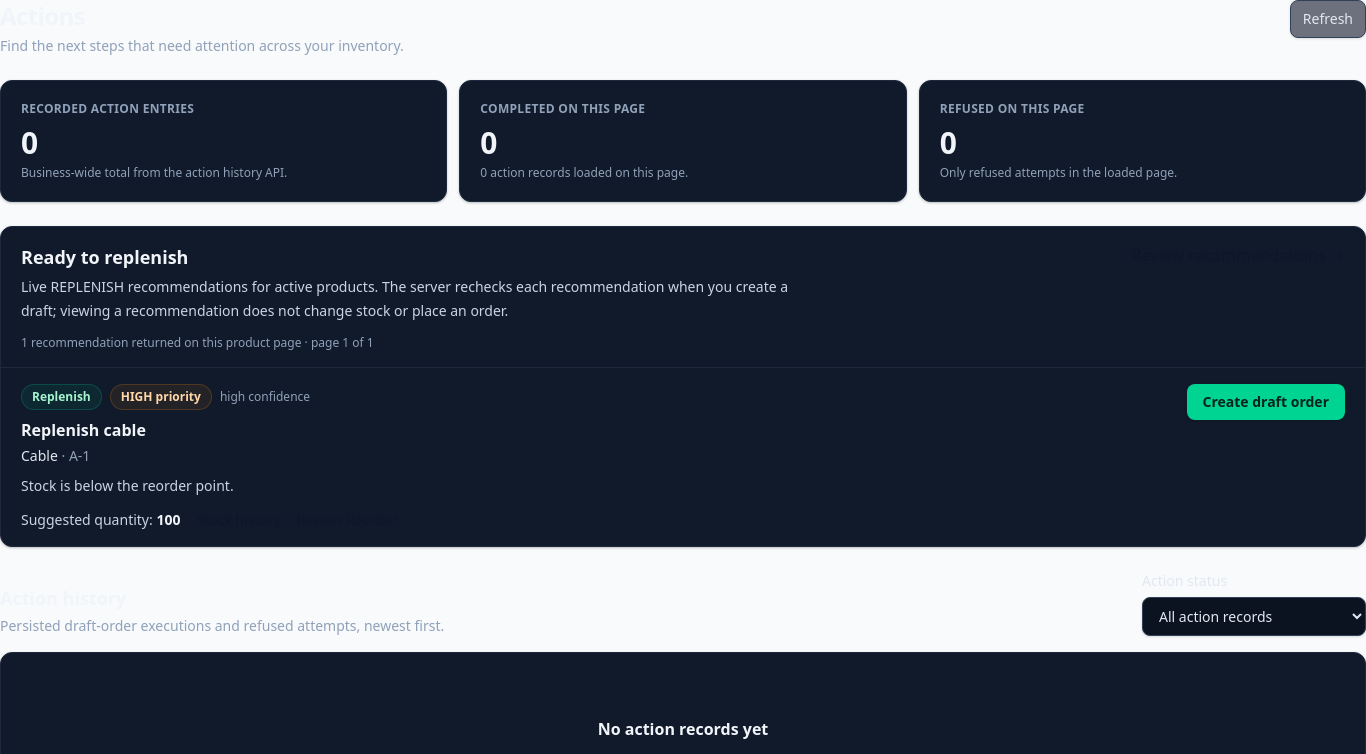
Scenario: Action Center - the dialog cannot be dismissed mid-request › submits exactly once, with one key, however hard it is clicked
Click the button "Create draft order": coordinates (1266, 402) [1186,384,1345,420]
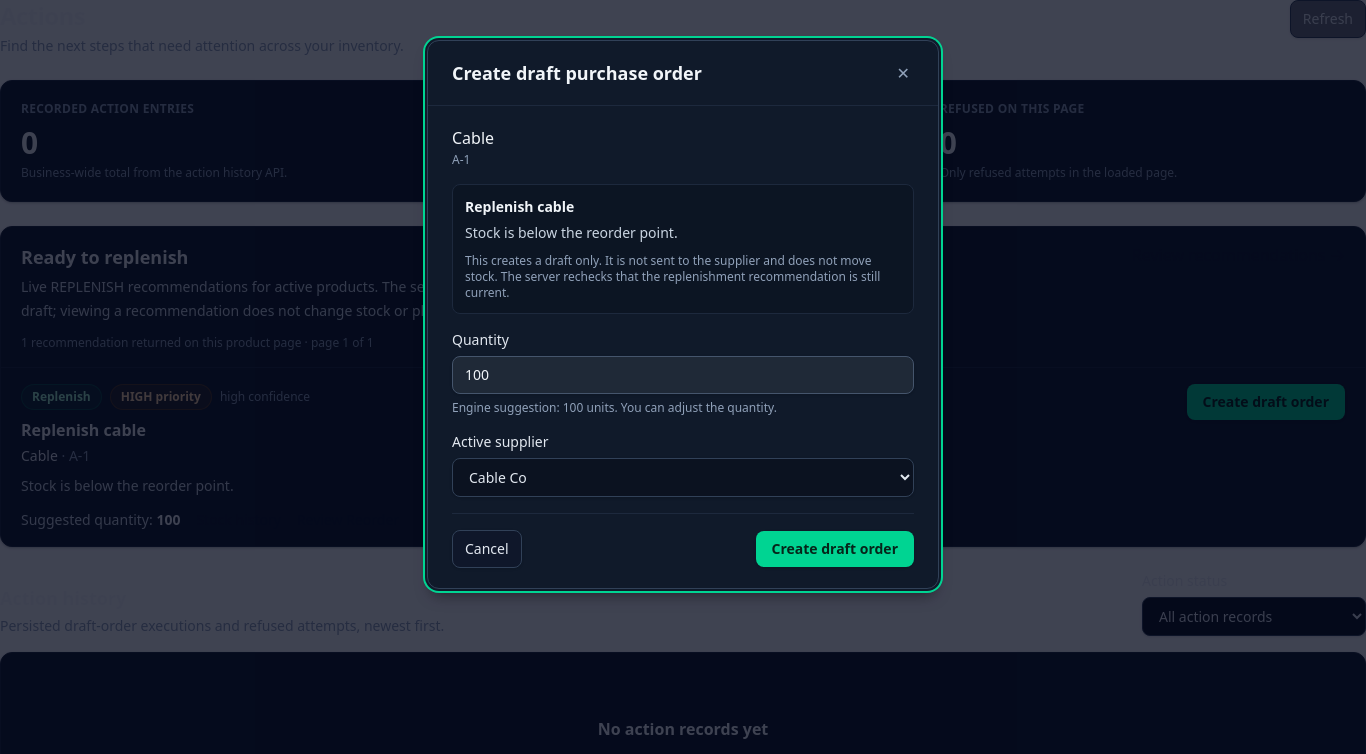
Click the button "Create draft order": coordinates (835, 549) [756,531,914,567]
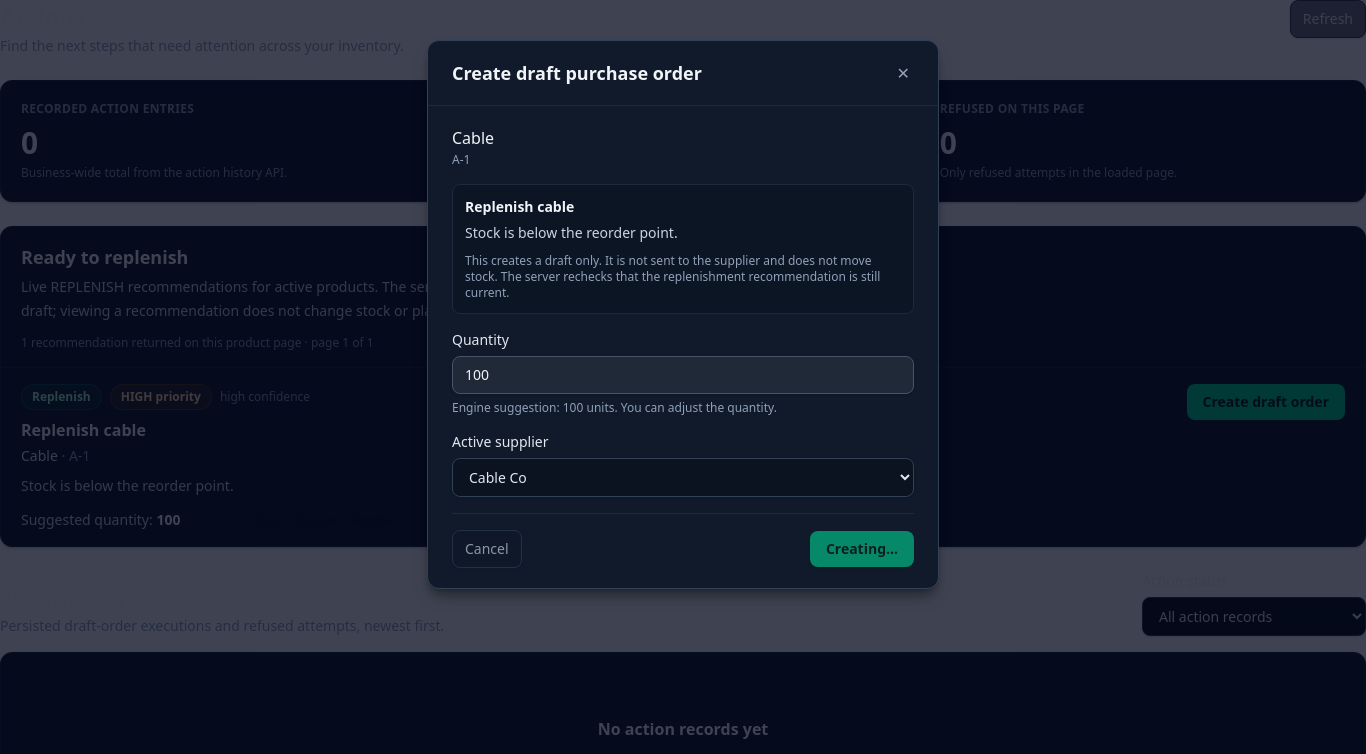
Expected: the button "Creating…" is disabled
Click the button "Creating…": coordinates (862, 549) [810,531,914,567]
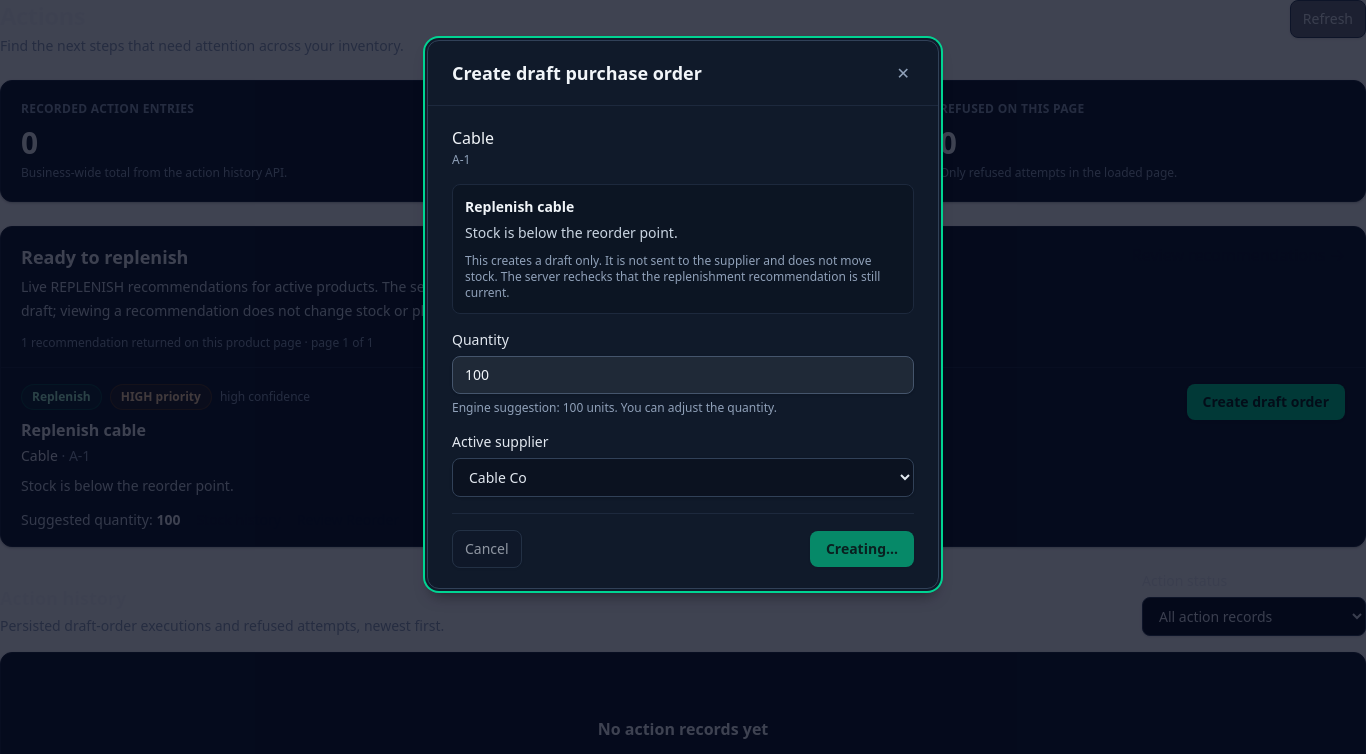
Double-click the button "Creating…": coordinates (862, 549) [810,531,914,567]
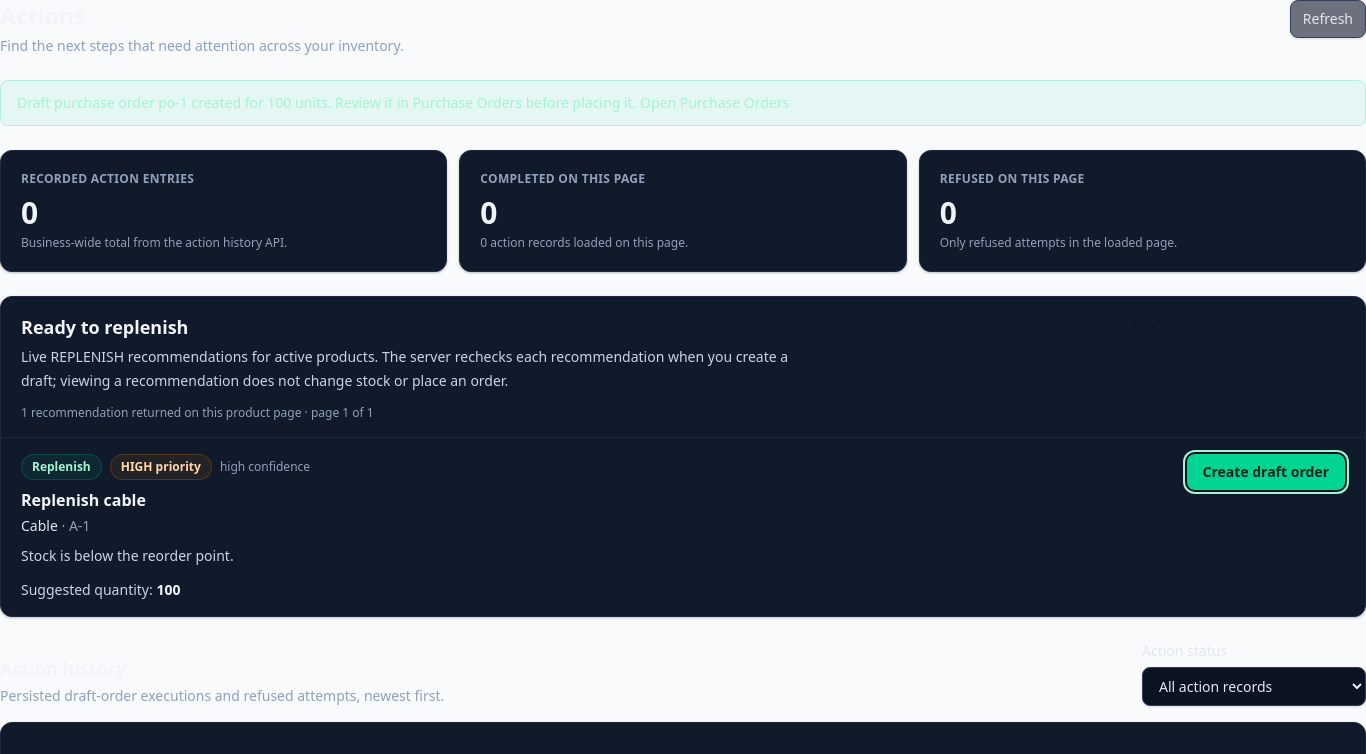
Expected: the dialog is gone
